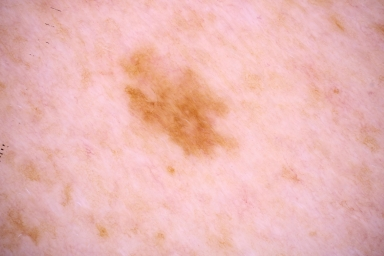melanoma: (126, 65, 237, 160)
